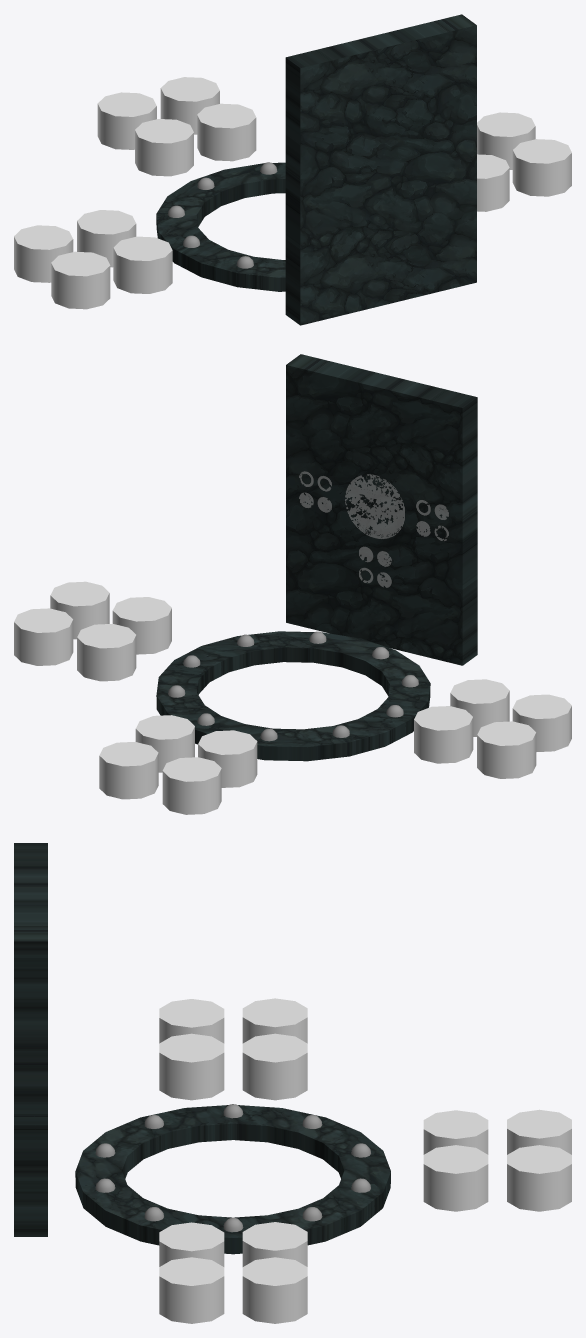
File: Hinted portal.FBX
3 renders of one model, top to bottom at view 1: azimuth 30°, elevation 25°; view 2: azimuth 150°, elevation 25°; view 3: azimuth 270°, elevation 25°, orthographic. The views are drawn at different scales.
Parts seen in each view (by area): view 1: Cylinder001, Cylinder006, Cylinder002, Cylinder010, Cylinder003, Cylinder013, Cylinder005, Cylinder012, Cylinder011, Cylinder004, Cylinder007, Cylinder009 (+1 smaller); view 2: Cylinder001, Cylinder007, Cylinder005, Cylinder004, Cylinder012, Cylinder011, Cylinder008, Cylinder013, Cylinder009, Cylinder002, Cylinder010, Cylinder003 (+2 smaller); view 3: Cylinder001, Cylinder010, Cylinder006, Cylinder007, Cylinder004, Cylinder003, Cylinder011, Cylinder005, Cylinder008, Object001, Cylinder013, Cylinder009 (+2 smaller).
Part boxes in pixels (x1,y1,x2,y2): Cylinder001: (156,14,476,325); Cylinder006: (512,139,571,196); Cylinder002: (51,251,110,309); Cylinder010: (197,103,256,161); Cylinder003: (113,236,172,293); Cylinder013: (135,119,193,176); Cylinder005: (14,225,73,282); Cylinder012: (97,92,156,149); Cylinder011: (160,77,219,134); Cylinder004: (77,210,136,267); Cylinder007: (477,112,535,169); Cylinder009: (477,154,509,211); Cylinder001: (156,354,477,761); Cylinder007: (14,608,73,665); Cylinder005: (477,721,536,778); Cylinder004: (414,706,473,763); Cylinder012: (162,757,221,814); Cylinder011: (99,742,158,799); Cylinder008: (77,624,136,681); Cylinder013: (198,730,257,787); Cylinder009: (112,597,171,654); Cylinder002: (512,694,571,751); Cylinder010: (135,715,194,772); Cylinder003: (450,679,509,736); Cylinder001: (14,843,390,1254); Cylinder010: (423,1145,488,1211); Cylinder006: (159,1257,224,1323); Cylinder007: (242,1257,307,1323); Cylinder004: (242,1033,307,1100); Cylinder003: (159,1033,224,1100); Cylinder011: (507,1145,571,1211); Cylinder005: (242,998,307,1043); Cylinder008: (242,1222,307,1266); Object001: (95,1104,370,1232); Cylinder013: (423,1110,488,1154); Cylinder009: (159,1222,224,1266).
Bounding box in the file's own units: 245 × 117 × 200.
